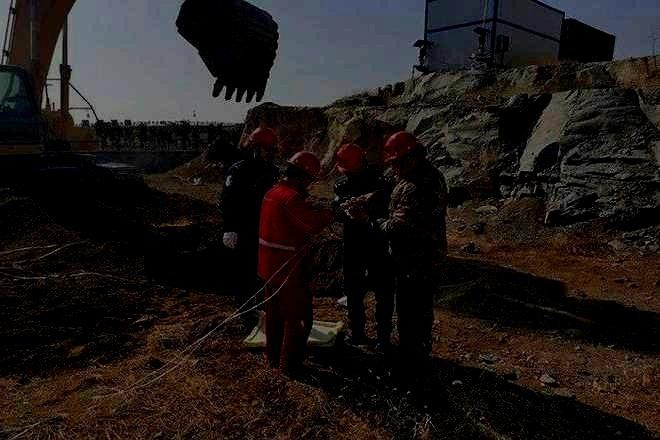helmet: (383, 130, 427, 177), (286, 151, 321, 188), (335, 142, 368, 181), (249, 125, 279, 163)
